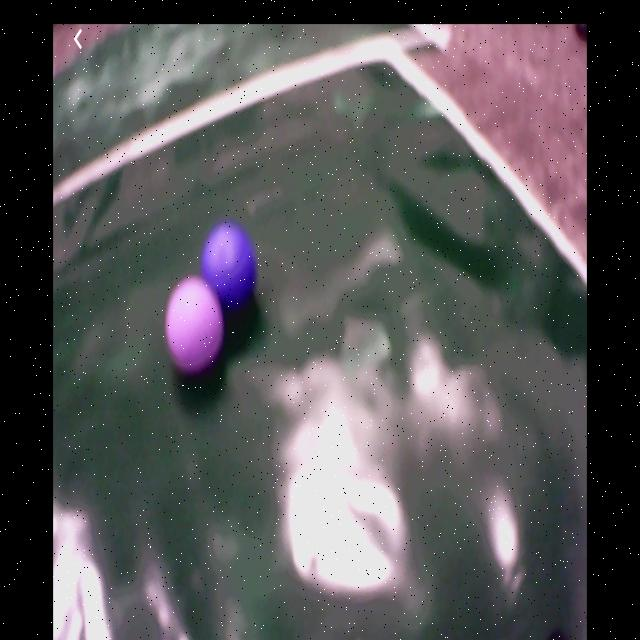ball: (164, 278, 224, 369), (195, 224, 257, 305)
